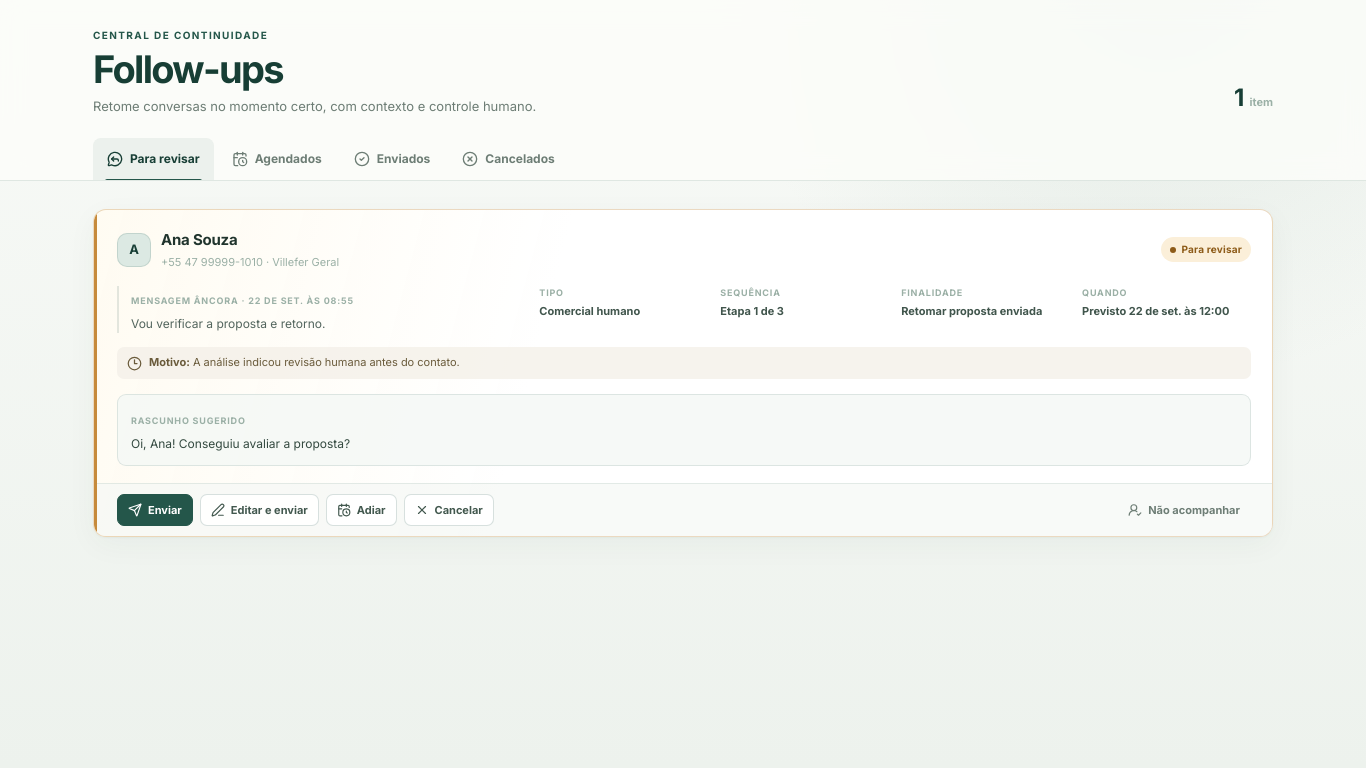
Scenario: FollowupsPage › removes a stale card and explains that the context changed without retrying
The width and height of the screenshot is (1366, 768).
Click the button "Enviar" at (155,510), box [117,494,193,526]
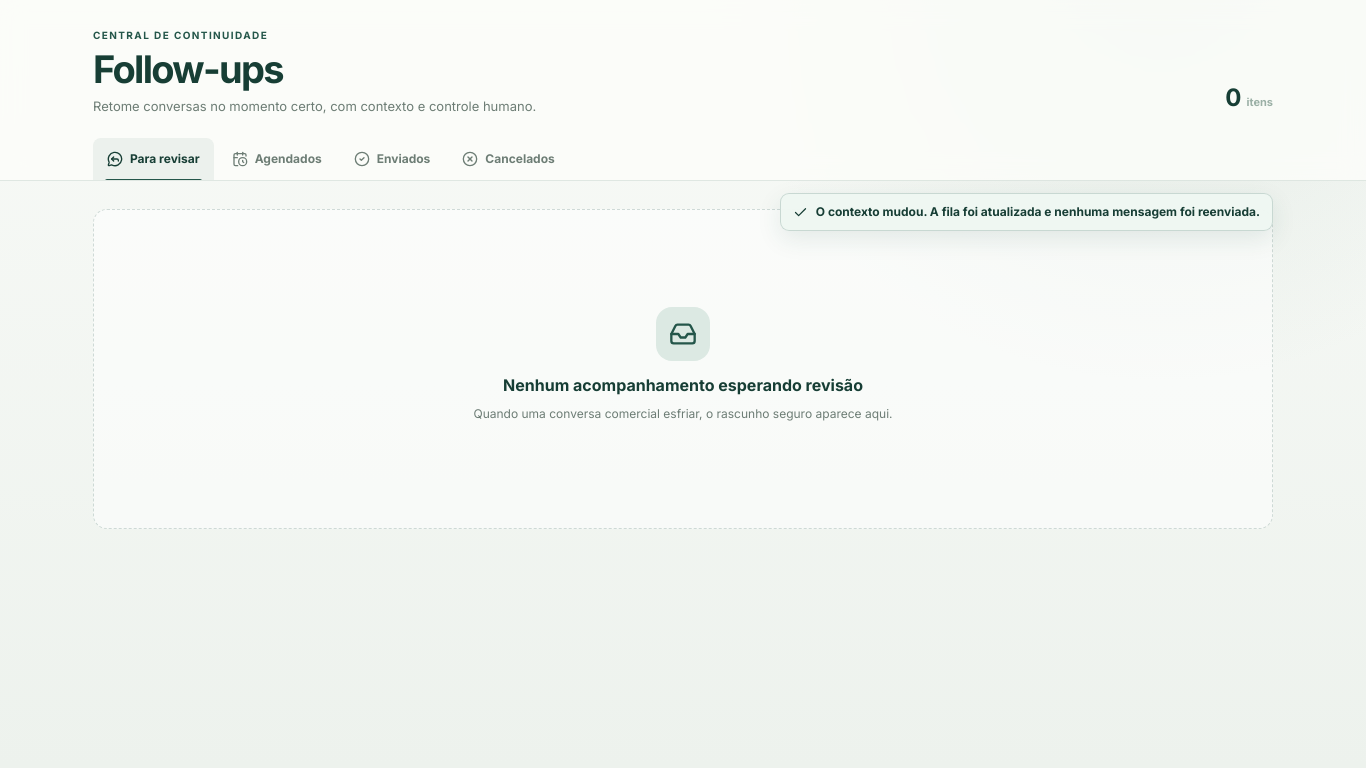
Result: the text "O contexto mudou" is shown at [816,204,1260,219]
Result: the text "nenhuma mensagem foi reenviada" is shown at [816,204,1260,219]
Result: the text "Ana Souza" is gone
